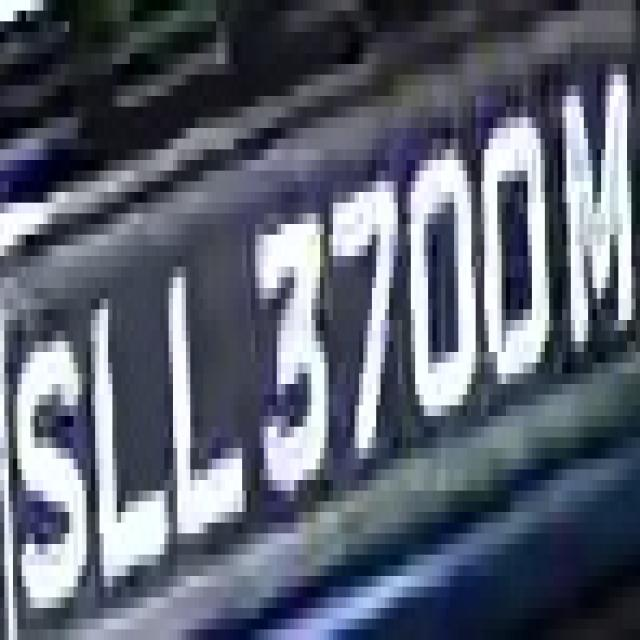0: (385, 139, 489, 469), (467, 138, 554, 426)
3: (246, 181, 333, 523)
7: (320, 160, 398, 512)
L: (156, 235, 250, 544), (82, 266, 160, 586)
M: (549, 64, 627, 405)
S: (9, 299, 95, 597)
